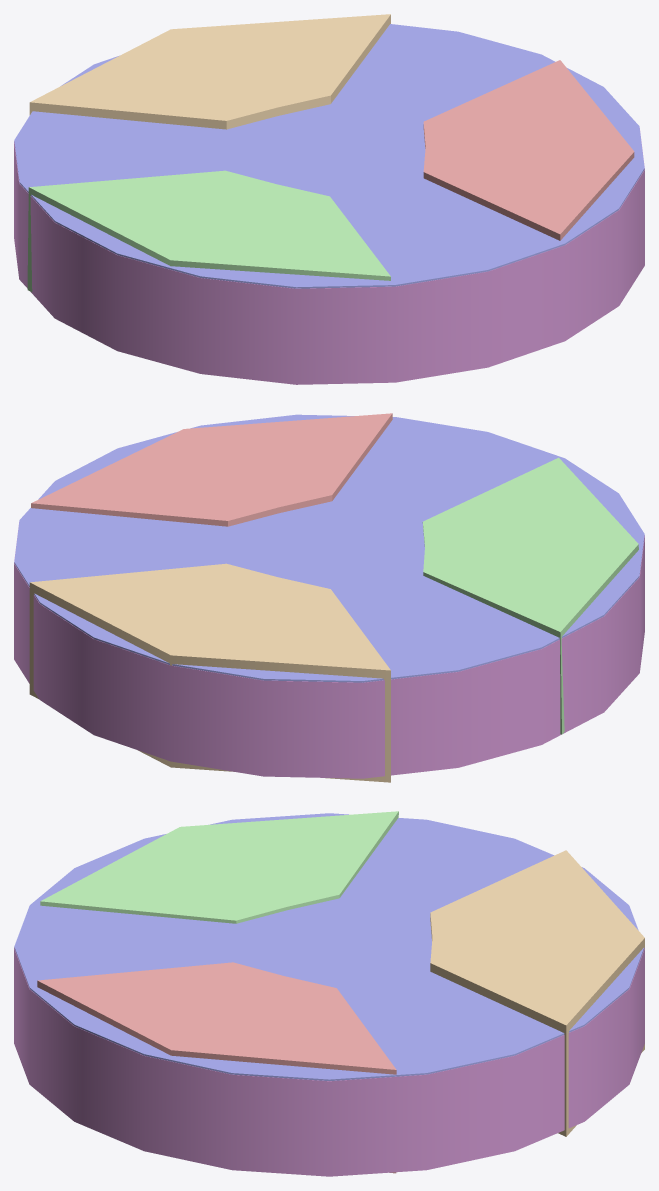
File: HVArena6.fbx
3 renders of one model, top to bottom at view 1: azimuth 30°, elevation 25°; view 2: azimuth 150°, elevation 25°; view 3: azimuth 270°, elevation 25°, orthographic.
Visible parts, largest first — view 1: pCylinder3, polySurface1, pCube2, pCube5, pCube6; view 2: pCylinder3, polySurface1, pCube2, pCube6, pCube5; view 3: polySurface1, pCylinder3, pCube2, pCube5, pCube6.
Boxes of the visible parts, box(x1,y1,x2,y2) form: pCylinder3: box(14, 24, 644, 288); polySurface1: box(14, 128, 644, 384); pCube2: box(29, 14, 390, 129); pCube5: box(27, 170, 390, 291); pCube6: box(423, 60, 634, 240); pCylinder3: box(14, 414, 644, 682); polySurface1: box(14, 522, 644, 778); pCube2: box(29, 563, 390, 782); pCube6: box(31, 413, 392, 526); pCube5: box(422, 457, 638, 734); polySurface1: box(14, 948, 644, 1176); pCylinder3: box(14, 813, 644, 1080); pCube2: box(430, 850, 644, 1136); pCube5: box(40, 811, 398, 923); pCube6: box(37, 962, 396, 1173).
Size of the model in its own units: 19.45 by 3.79 by 19.45.
